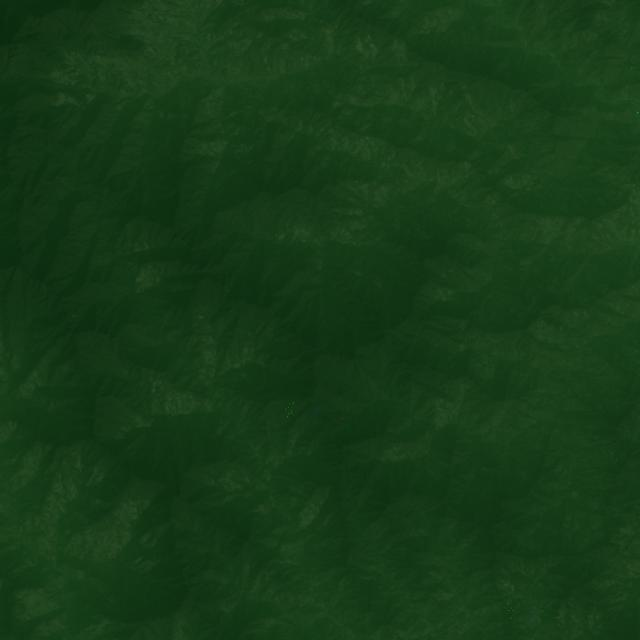landslides: (360, 576, 379, 582)
